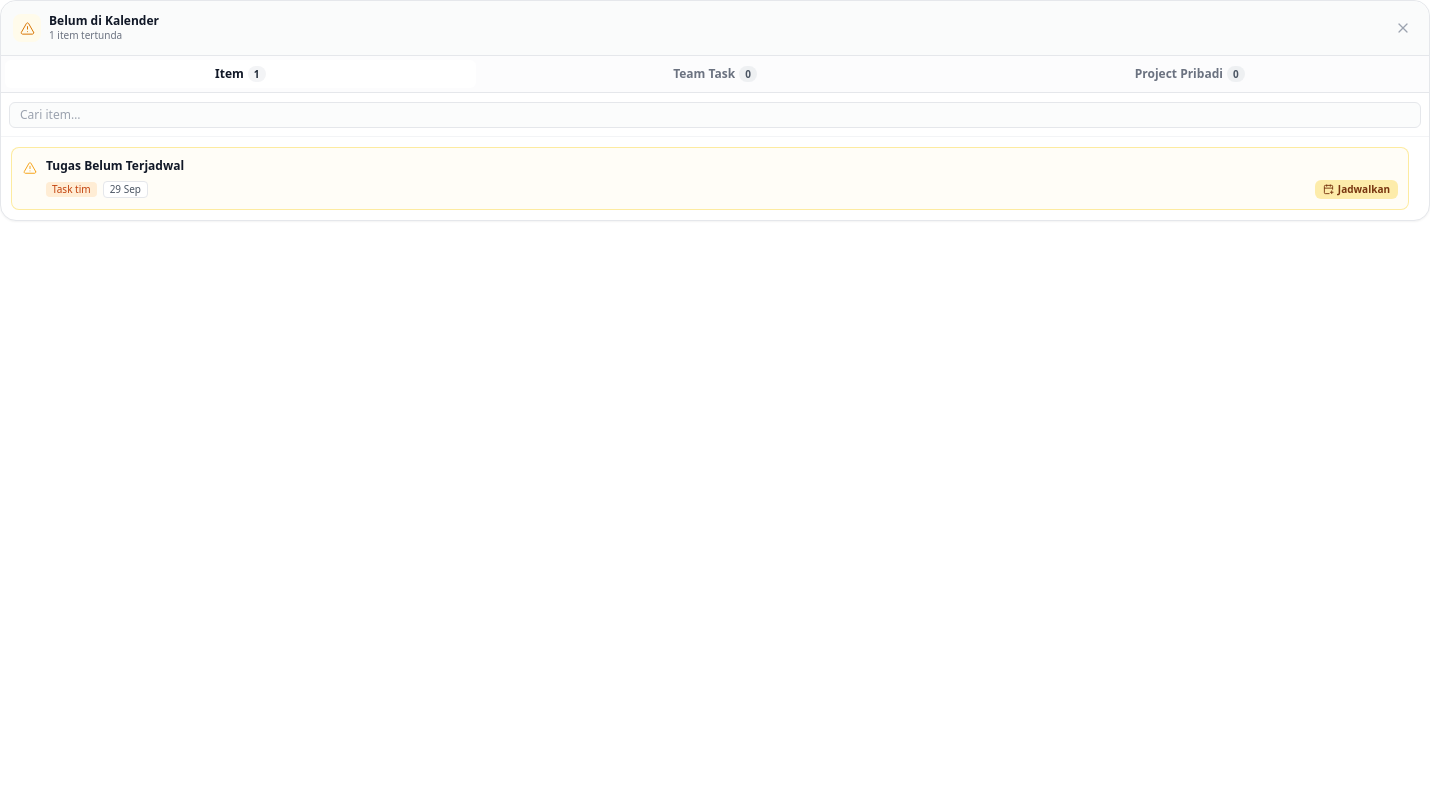
it: CalendarSidebar (Mobile Tap-to-Schedule) › renders unscheduled items with Jadwalkan button and opens QuickScheduleModal on click
Note: Klik tombol Jadwalkan
Click the button "Jadwalkan" at (1356, 190), box [1315,180,1398,199]
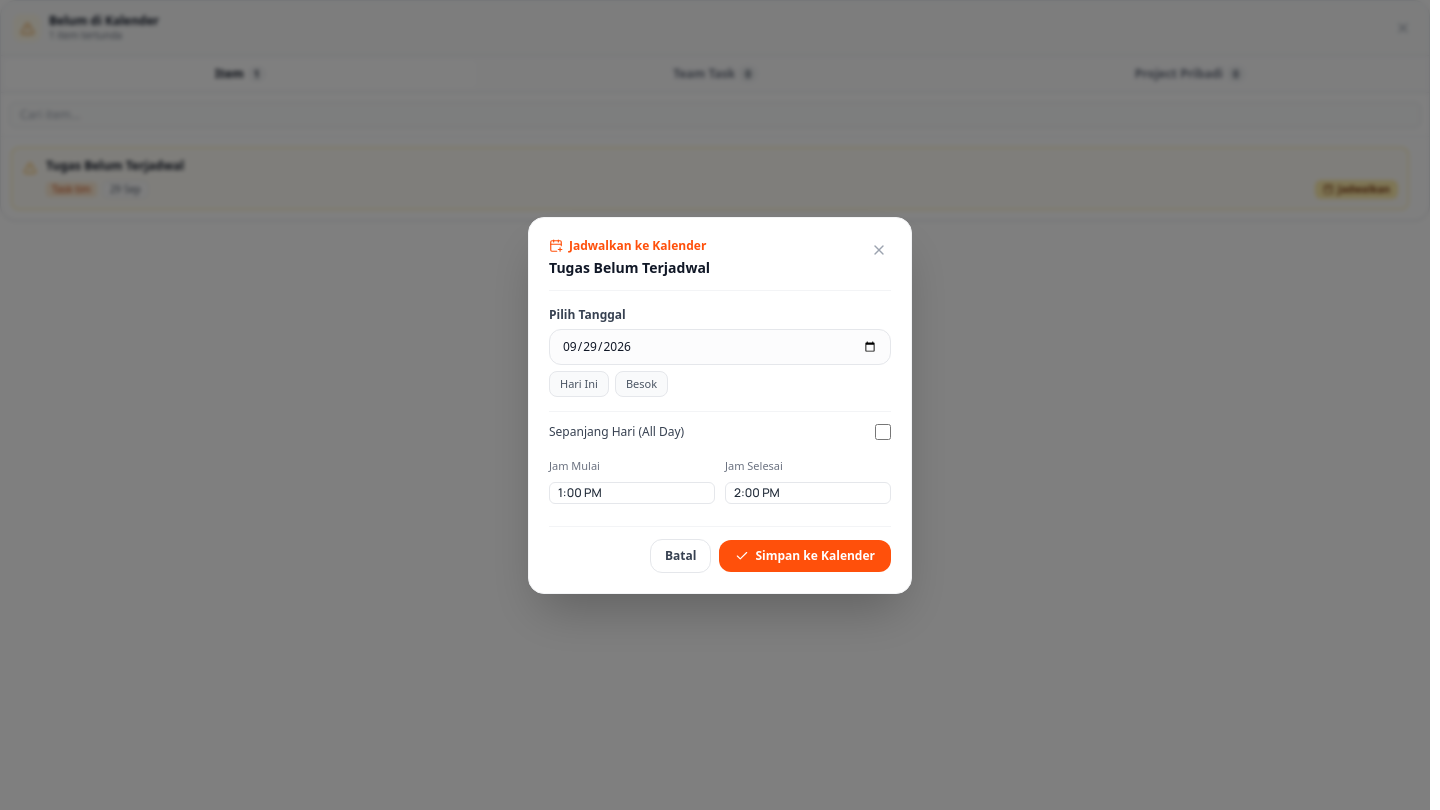
Check: the text "Jadwalkan ke Kalender" is shown, box [569,238,706,254]
Check: the text "Pilih Tanggal" is shown, box [549,306,626,322]
Check: the button "Simpan ke Kalender" is shown, box [720,540,891,572]
